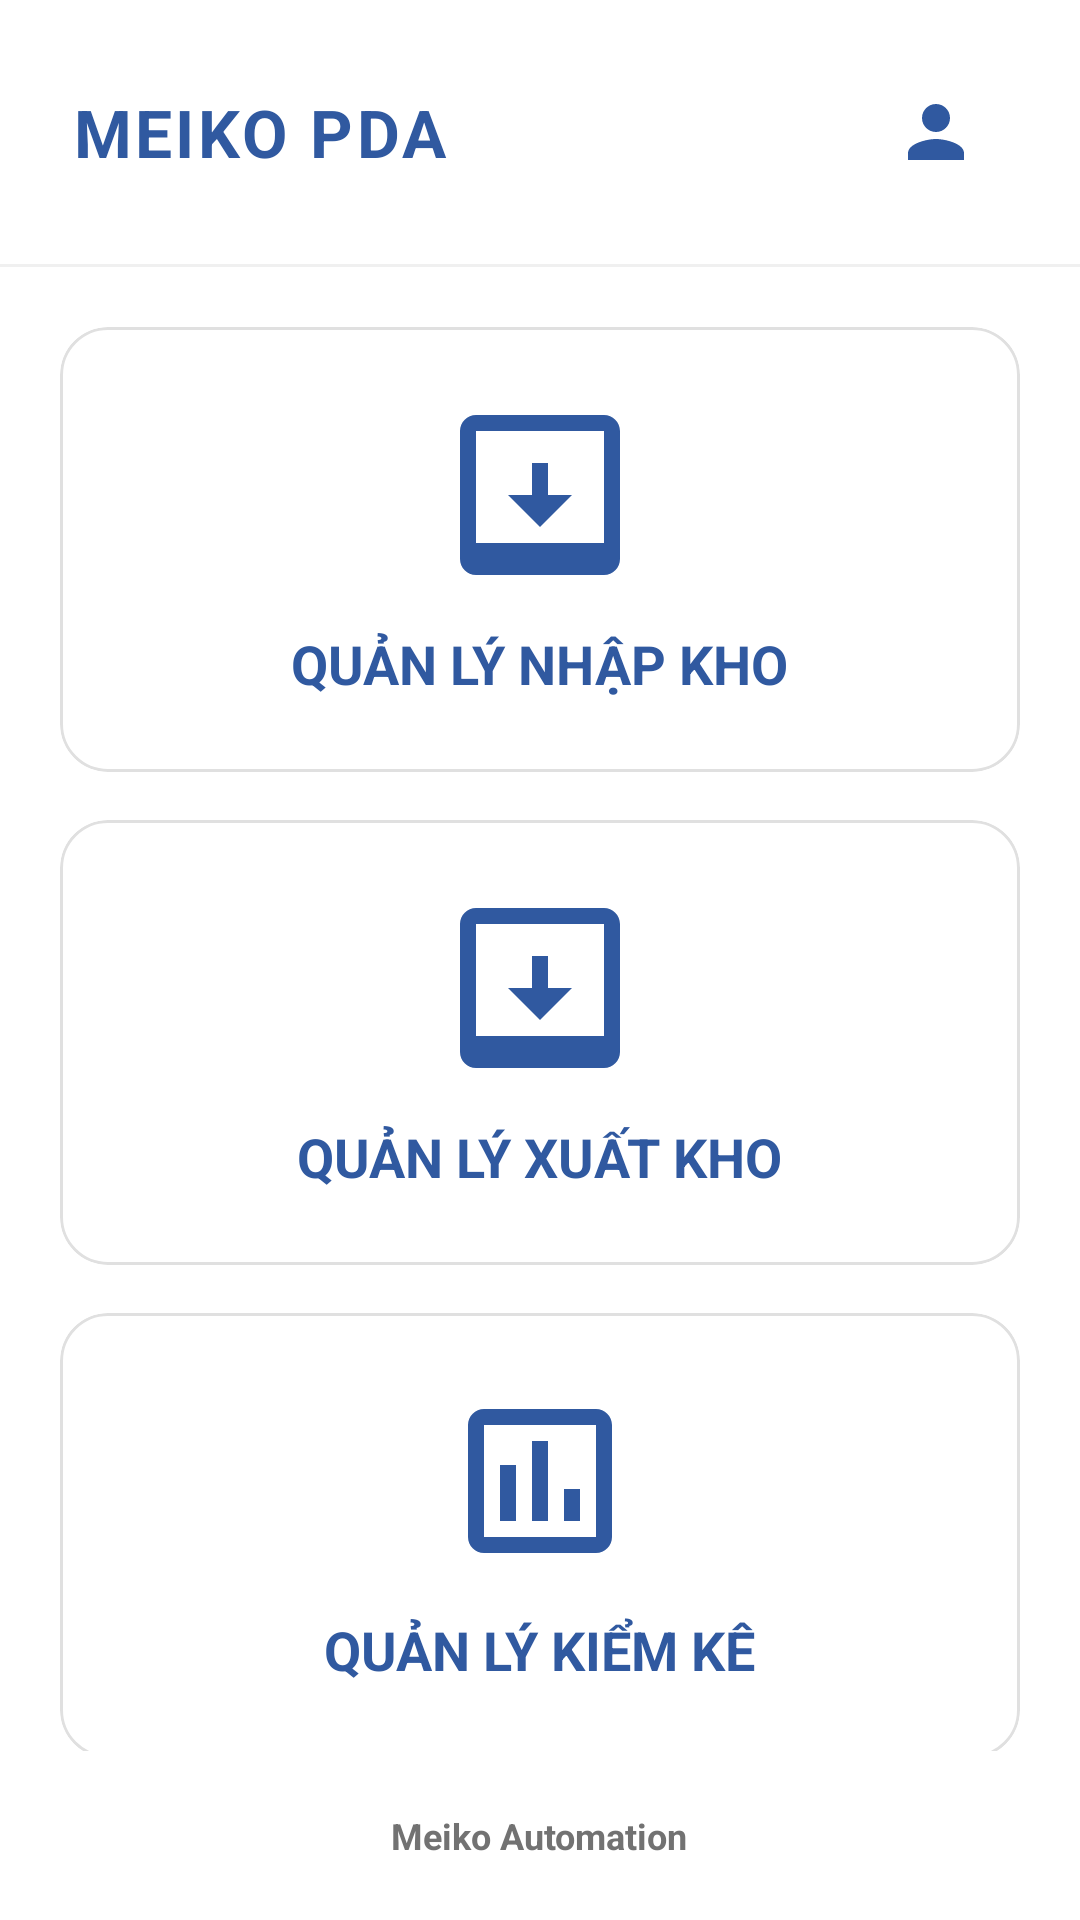

Screen size 1080w x 1920h. Icon name, then its box in pixels as (x1, y1, x2, y2):
inbound: (460, 415, 620, 575)
